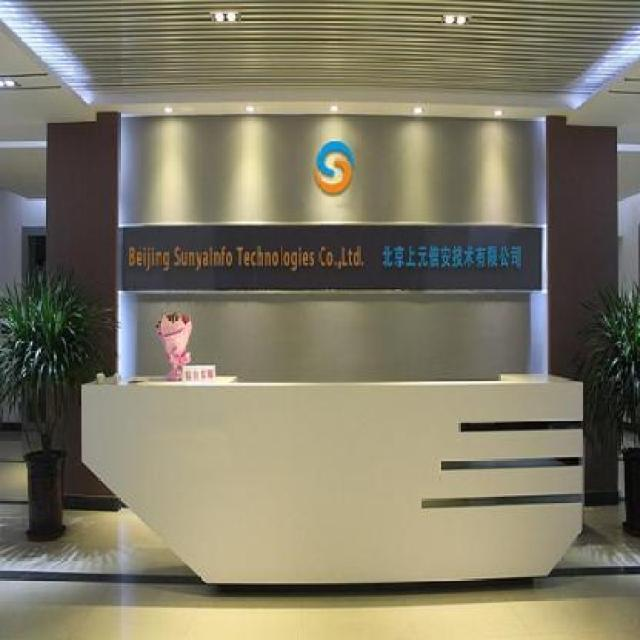frontdesk: (75, 359, 588, 593)
